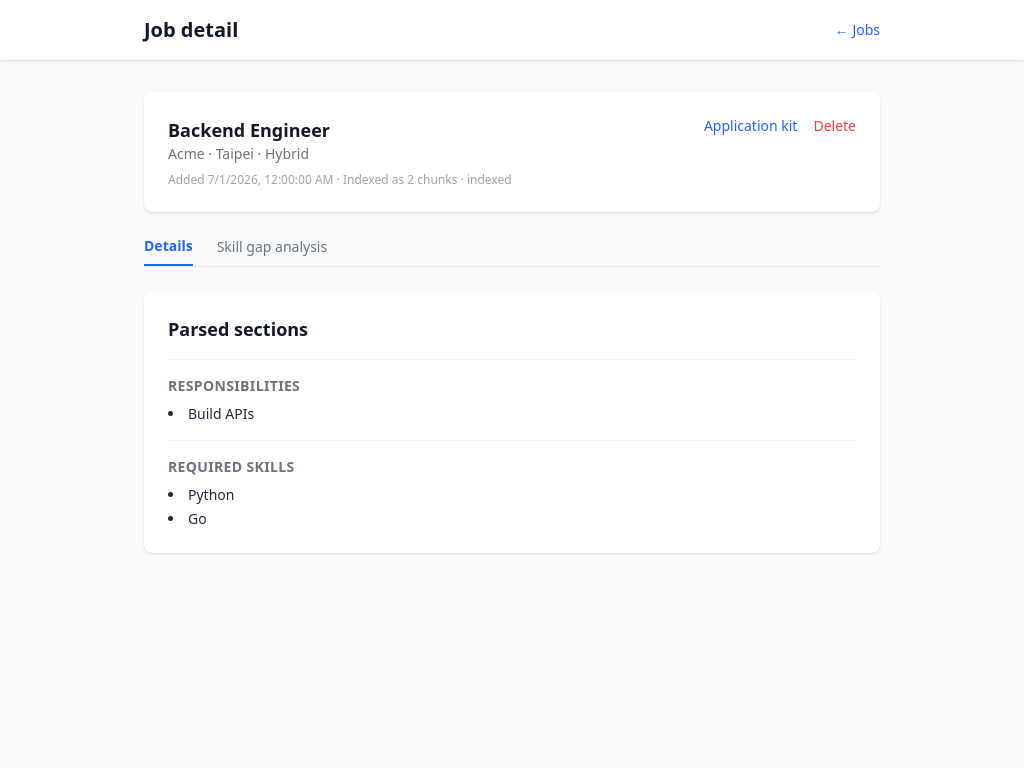
switching to the skill gap tab shows gaps with severity badges
The width and height of the screenshot is (1024, 768).
Expected: the heading "Backend Engineer" is shown, x1=168 y1=116 x2=330 y2=144
Click the tab "Skill gap analysis" at (272, 251), box x1=217 y1=236 x2=327 y2=266
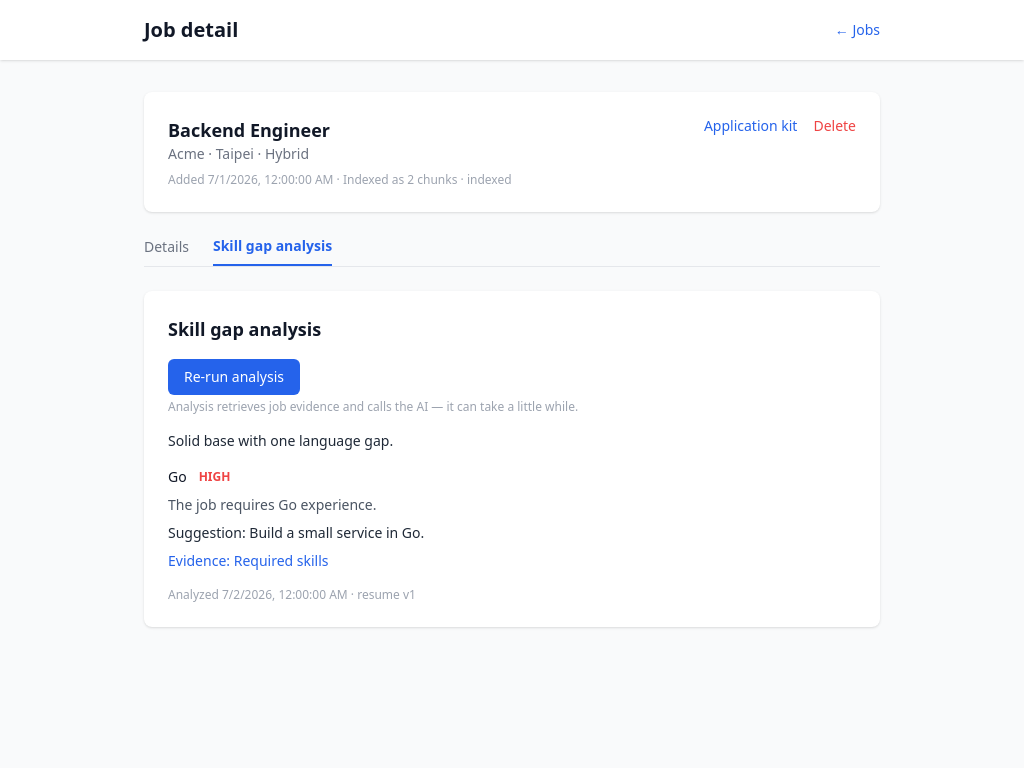
Expected: the text "Go" is shown, x1=168 y1=467 x2=187 y2=487
Expected: the text "high" is shown, x1=199 y1=469 x2=230 y2=485
Expected: the text "Solid base with one language gap." is shown, x1=168 y1=431 x2=393 y2=450
